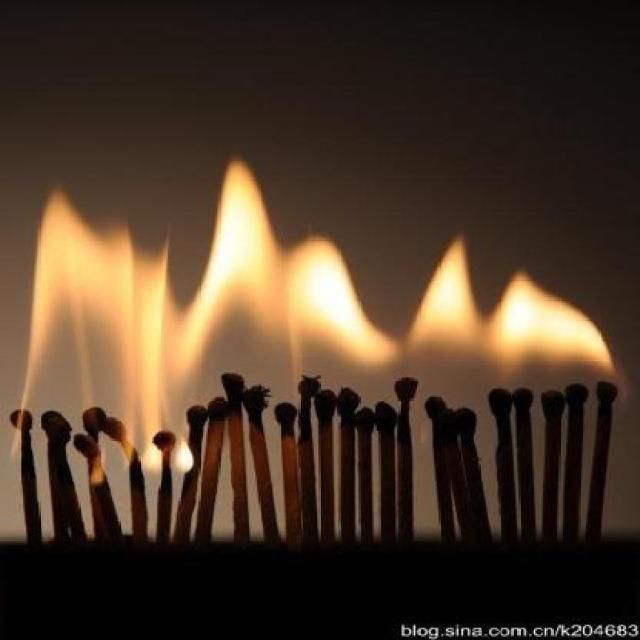Fire: (14, 157, 640, 491)
